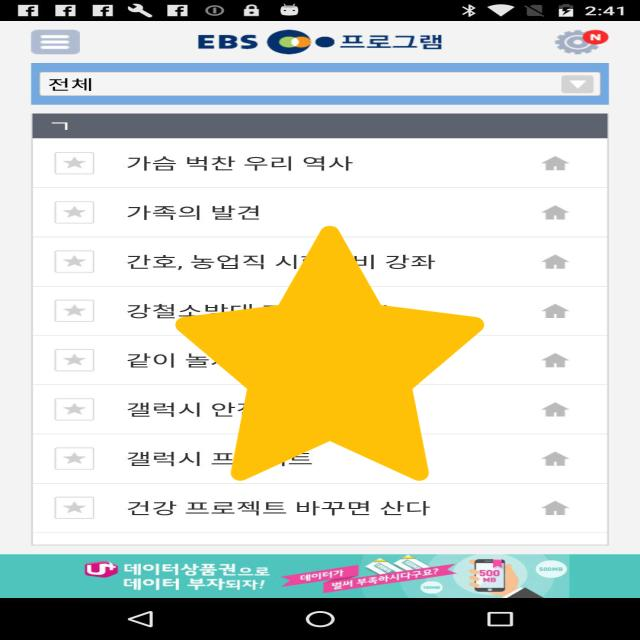forced continuity: (176, 226, 484, 481)
